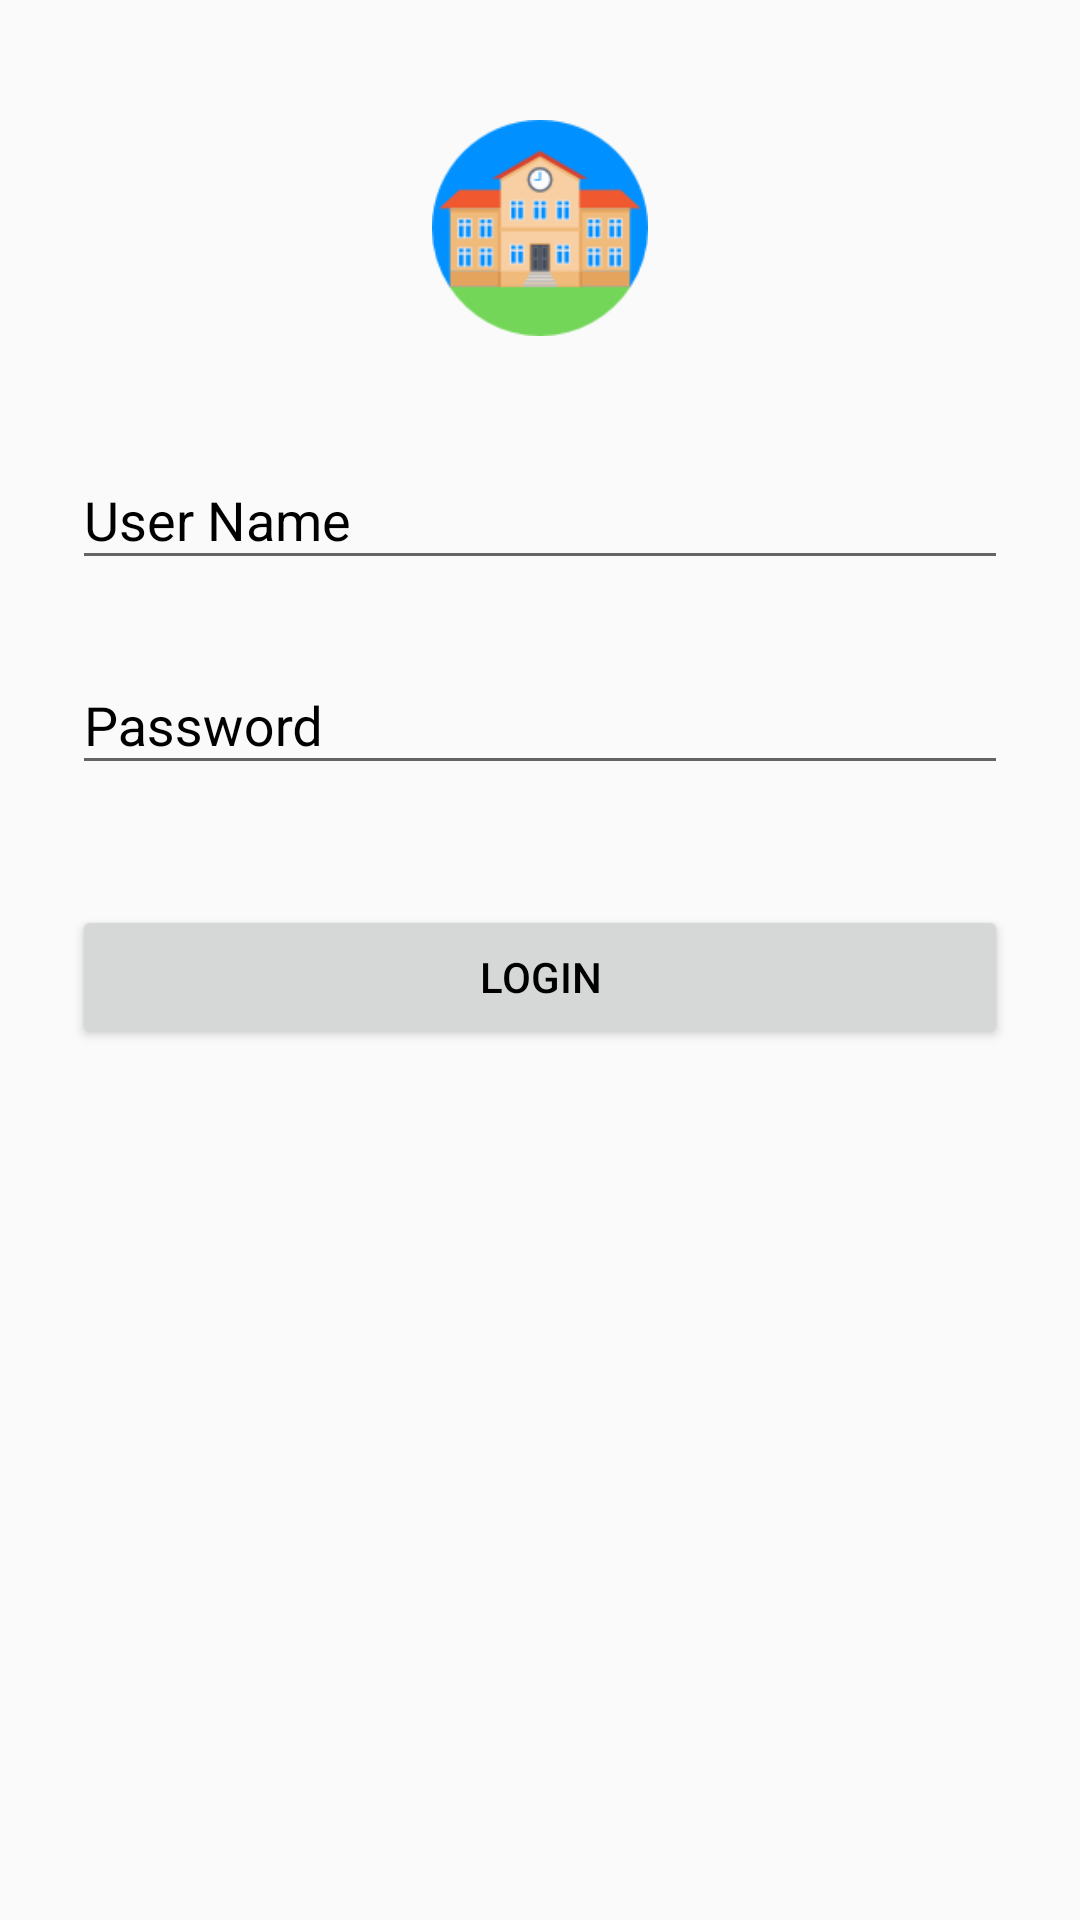

Icons on this 1080 × 1920 Android screen, each with the point to tap as (x,y):
school: (540,228)
